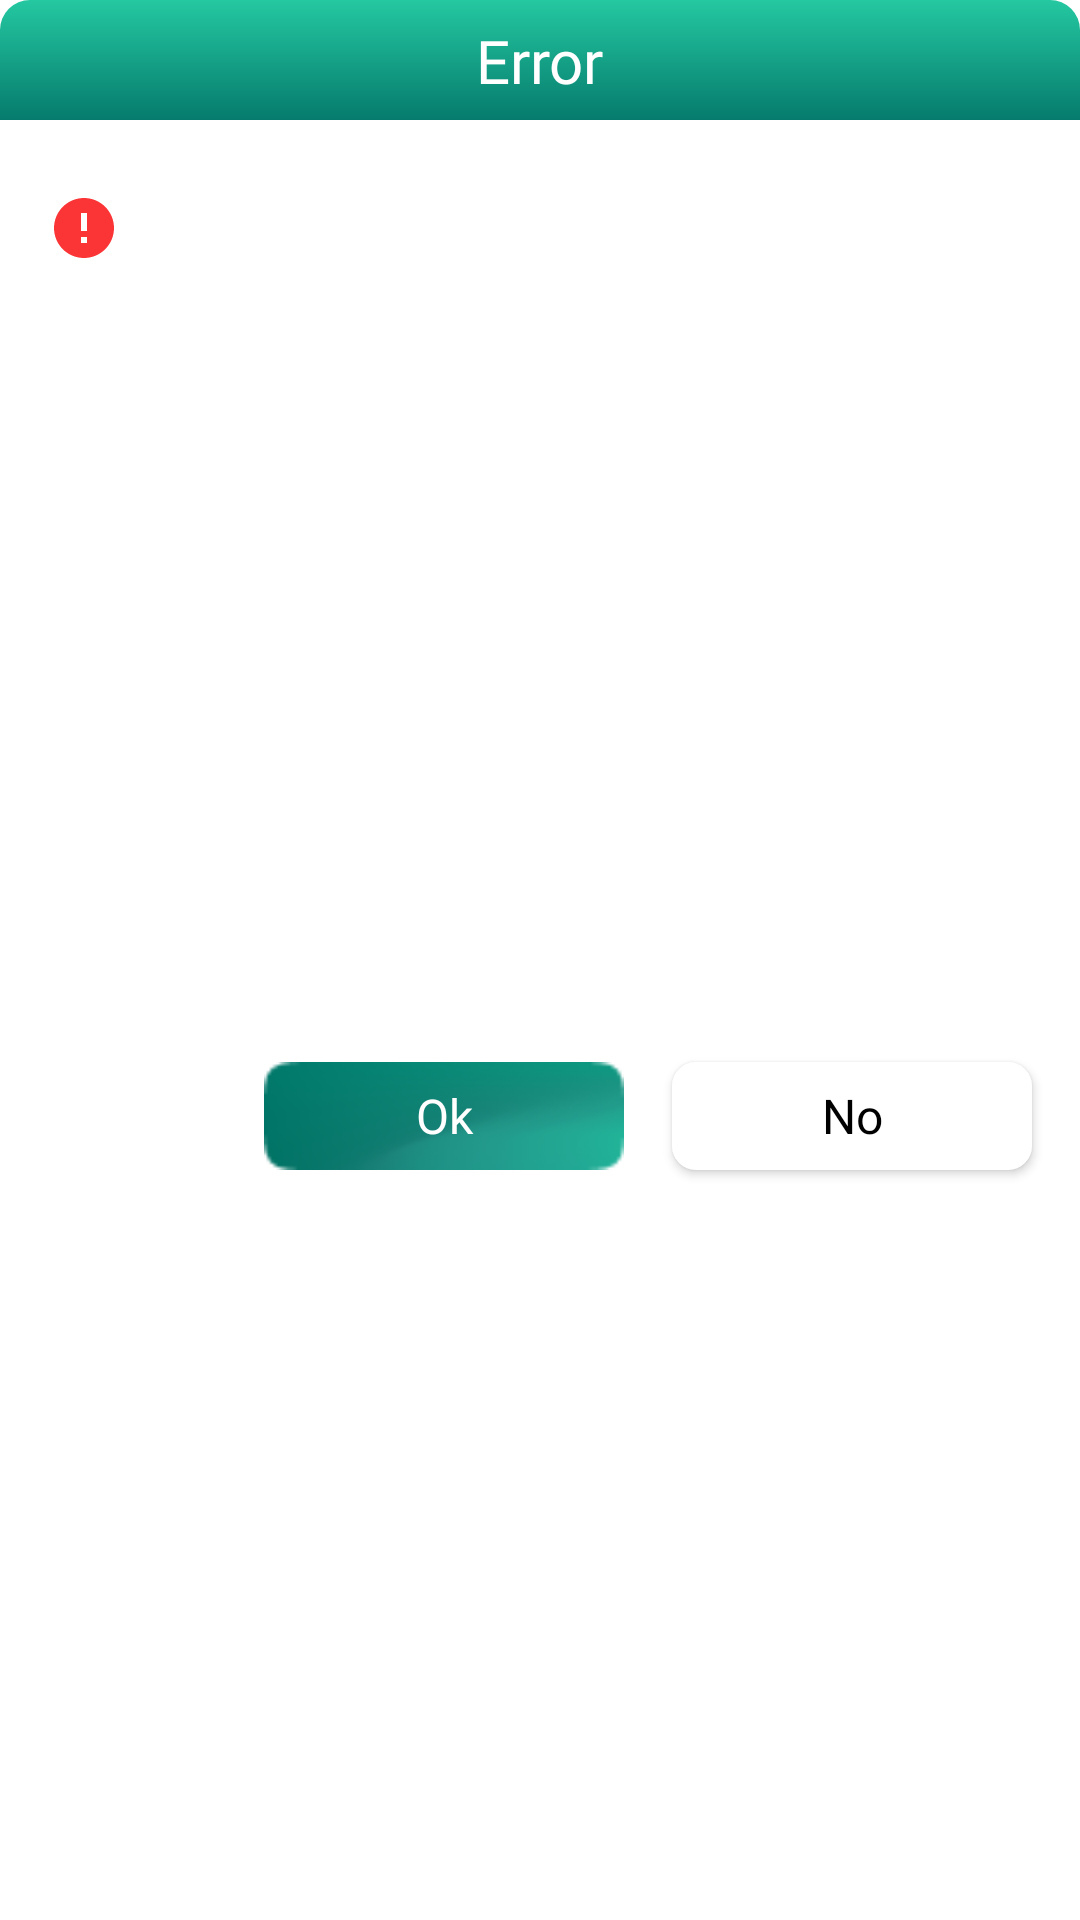

Point at icon controls on the screen. Image size 1080w x 1920h, points as point (x, y).
error sign: point (84, 228)
